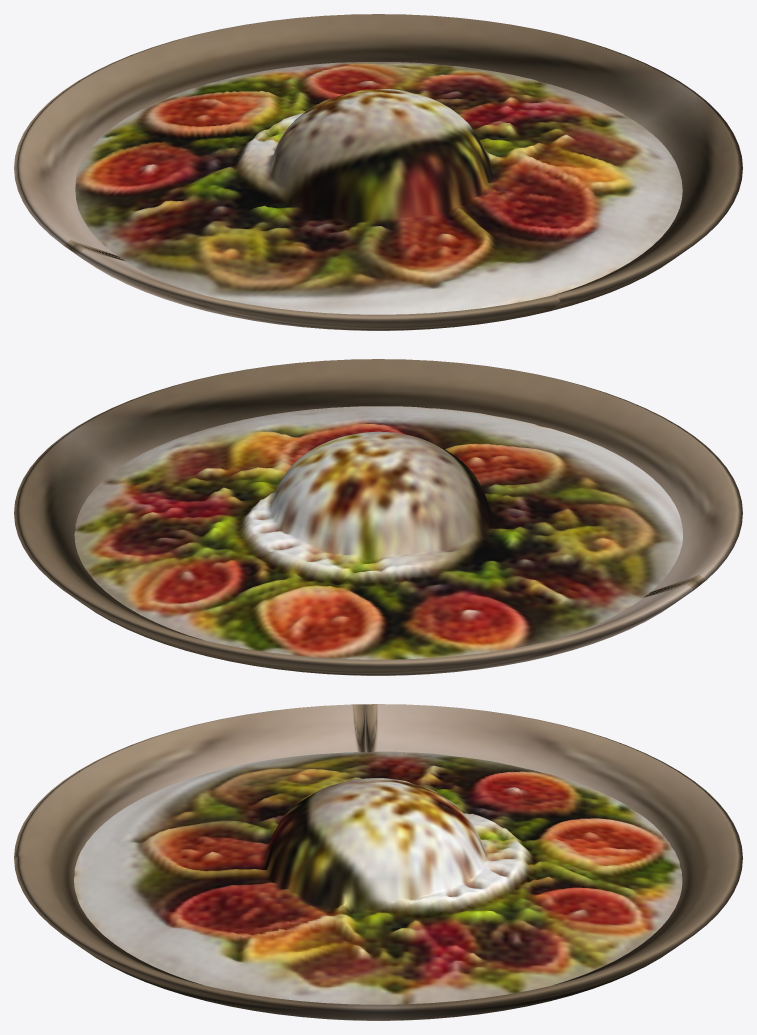
Rendered from burrata-fig-pizza.glb.
The picture shows the model from 3 angles, top to bottom: view 1: azimuth 30°, elevation 25°; view 2: azimuth 150°, elevation 25°; view 3: azimuth 270°, elevation 25°; orthographic projection.
Visible parts, largest first — view 1: PhotoSculptedFigAndBurrataCrown, StonewareSaladPlateBowl; view 2: PhotoSculptedFigAndBurrataCrown, StonewareSaladPlateBowl; view 3: PhotoSculptedFigAndBurrataCrown, StonewareSaladPlateBowl.
Part boxes in pixels (x1=…): PhotoSculptedFigAndBurrataCrown: x1=75, y1=62, x2=682, y2=330; StonewareSaladPlateBowl: x1=14, y1=14, x2=742, y2=330; PhotoSculptedFigAndBurrataCrown: x1=74, y1=406, x2=682, y2=675; StonewareSaladPlateBowl: x1=14, y1=359, x2=742, y2=675; PhotoSculptedFigAndBurrataCrown: x1=74, y1=751, x2=682, y2=1020; StonewareSaladPlateBowl: x1=14, y1=704, x2=742, y2=1020.
Bounding box in the file's own units: 3.52 × 0.634 × 3.52.
2 materials, 2 textured.
